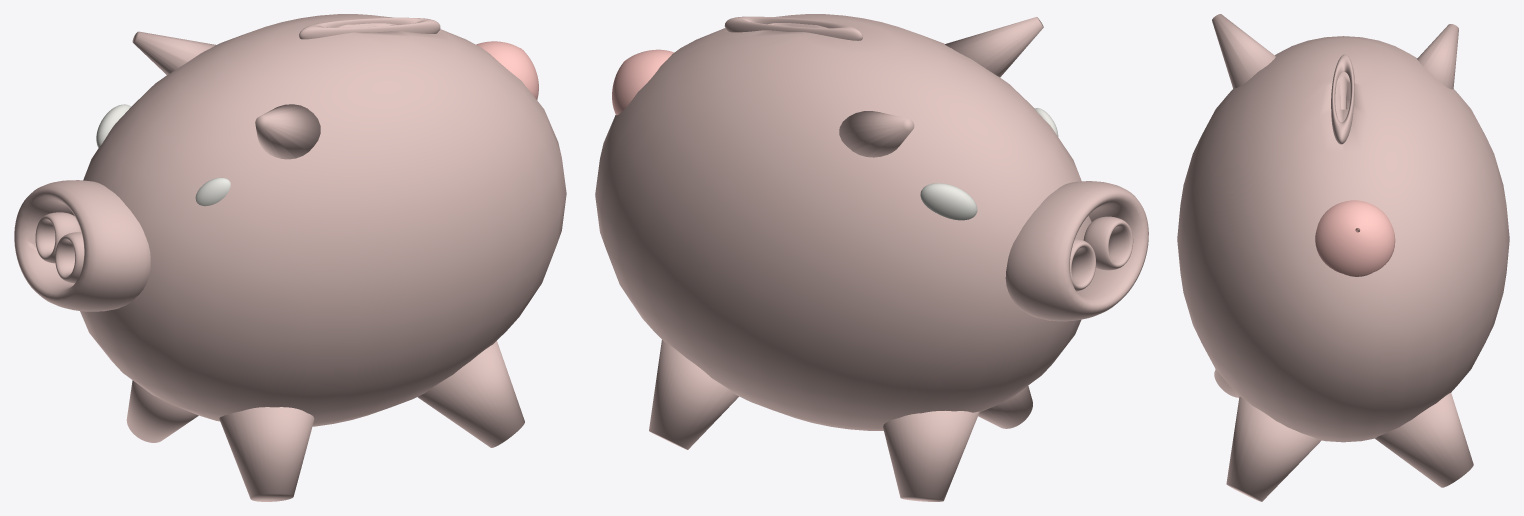
The model's file is piggyBank.dae.
The picture shows the model from 3 angles, left to right: view 1: azimuth 30°, elevation 25°; view 2: azimuth 150°, elevation 25°; view 3: azimuth 270°, elevation 25°; orthographic projection. The views are drawn at different scales.
Visible parts, largest first — view 1: 球体, 环体.001, 锥体, 锥体.001, 锥体.005, 锥体.003, 环体.004, 锥体.006, 锥体.004, 环体.002, 环体.003, 球体.001; view 2: 球体, 环体.001, 锥体.003, 锥体.002, 锥体.005, 锥体.006, 环体.003, 锥体.004, 环体.004, 球体.002, 锥体, 环体.002; view 3: 球体, 锥体.001, 锥体.002, 锥体.004, 锥体.005, 锥体.006, 环体.004.
Boxes of the visible parts, <box> form: 球体: <box>74,14,566,426</box>; 环体.001: <box>14,180,150,311</box>; 锥体: <box>219,407,314,501</box>; 锥体.001: <box>417,341,524,447</box>; 锥体.005: <box>255,104,320,159</box>; 锥体.003: <box>126,380,198,442</box>; 环体.004: <box>299,17,440,39</box>; 锥体.006: <box>132,31,215,74</box>; 锥体.004: <box>476,41,538,99</box>; 环体.002: <box>35,212,81,263</box>; 环体.003: <box>55,232,84,283</box>; 球体.001: <box>195,177,230,206</box>; 球体: <box>595,14,1091,430</box>; 环体.001: <box>1005,181,1148,321</box>; 锥体.003: <box>883,410,979,501</box>; 锥体.002: <box>649,340,738,449</box>; 锥体.005: <box>945,17,1043,77</box>; 锥体.006: <box>839,111,914,157</box>; 环体.003: <box>1083,216,1133,270</box>; 锥体.004: <box>612,49,673,115</box>; 环体.004: <box>724,16,862,40</box>; 球体.002: <box>920,183,977,220</box>; 锥体: <box>978,386,1032,428</box>; 环体.002: <box>1070,238,1096,291</box>; 球体: <box>1177,36,1509,442</box>; 锥体.001: <box>1226,396,1321,501</box>; 锥体.002: <box>1375,393,1473,487</box>; 锥体.004: <box>1315,200,1395,276</box>; 锥体.005: <box>1212,14,1275,88</box>; 锥体.006: <box>1417,24,1458,89</box>; 环体.004: <box>1331,54,1354,144</box>.
Bounding box in the file's own units: 3.68 × 2.26 × 2.89.
